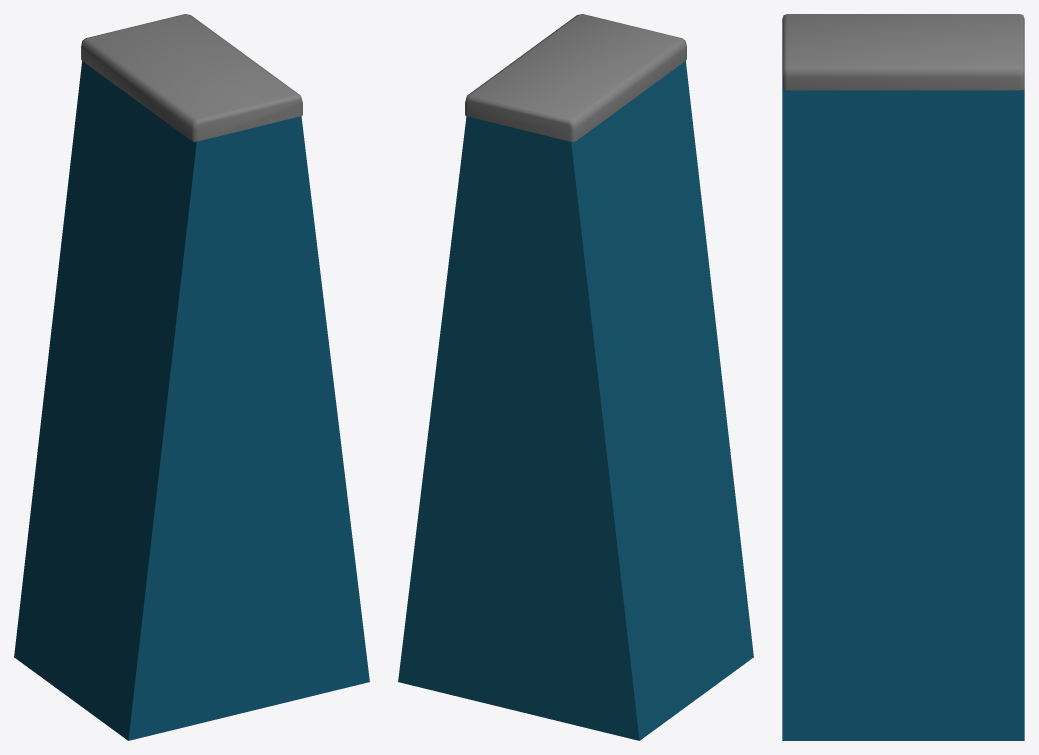
File: Door.fbx
The picture shows the model from 3 angles, left to right: view 1: azimuth 30°, elevation 25°; view 2: azimuth 150°, elevation 25°; view 3: azimuth 270°, elevation 25°; orthographic projection. The views are drawn at different scales.
Parts seen in each view (by area): view 1: DoorB, DoorA; view 2: DoorB, DoorA; view 3: DoorB, DoorA.
Boxes of the visible parts, left/top/right/bottom form: DoorB: left=14, top=61, right=369, bottom=740; DoorA: left=81, top=14, right=302, bottom=141; DoorB: left=398, top=61, right=753, bottom=740; DoorA: left=465, top=14, right=686, bottom=141; DoorB: left=782, top=88, right=1024, bottom=740; DoorA: left=782, top=14, right=1024, bottom=90.
Bounding box in the file's own units: 60.97 × 146 × 50.
